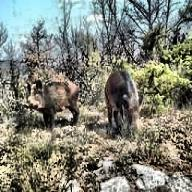boar: (104, 68, 142, 136)
